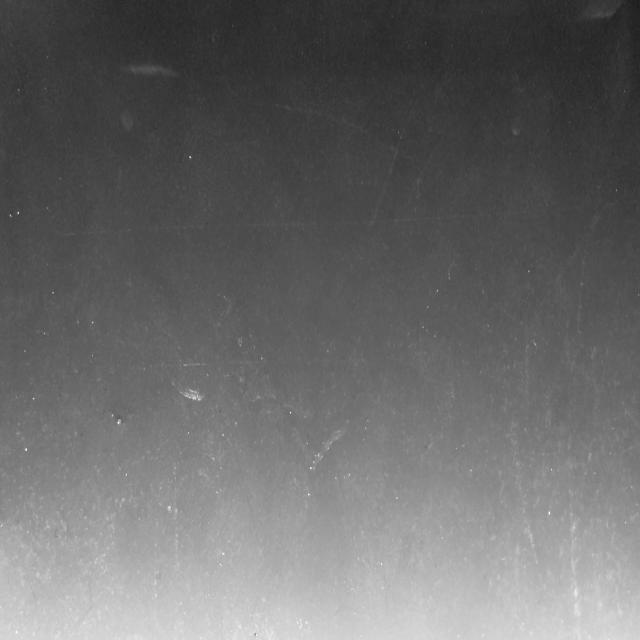beta: (258, 98, 425, 166), (367, 72, 424, 232), (504, 412, 550, 592), (540, 198, 612, 305), (564, 426, 584, 622), (395, 140, 445, 217), (575, 212, 599, 340), (150, 512, 162, 624), (170, 459, 182, 570)
